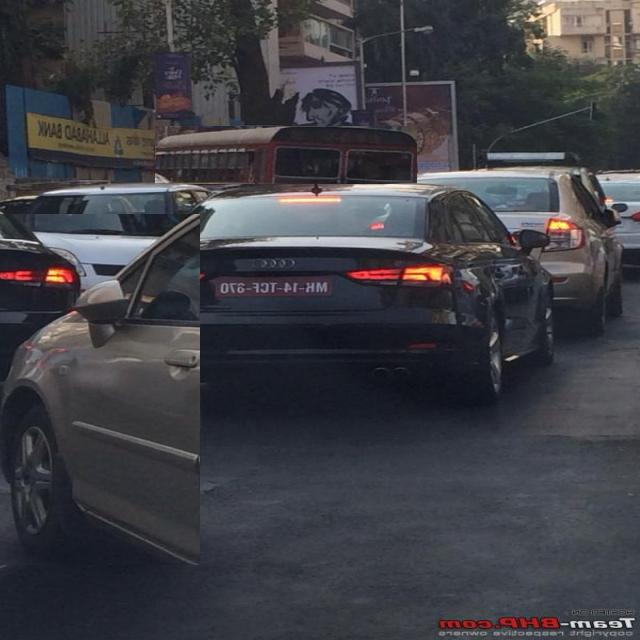bus: (155, 127, 417, 184)
car: (120, 184, 553, 403), (0, 215, 200, 565), (413, 168, 623, 334), (23, 184, 208, 289), (597, 171, 640, 264)
